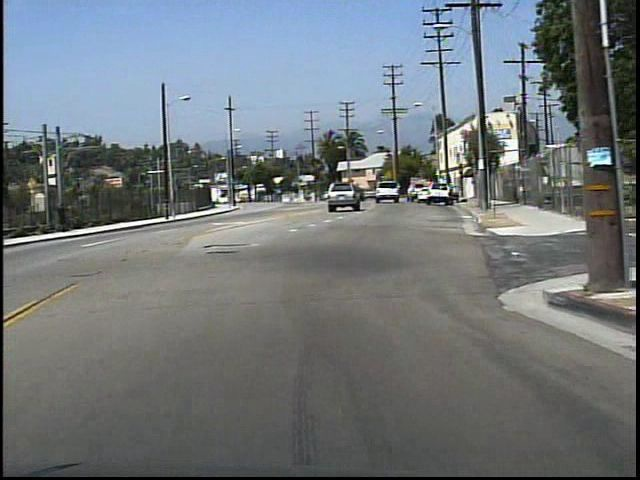person: (58, 199, 73, 235)
